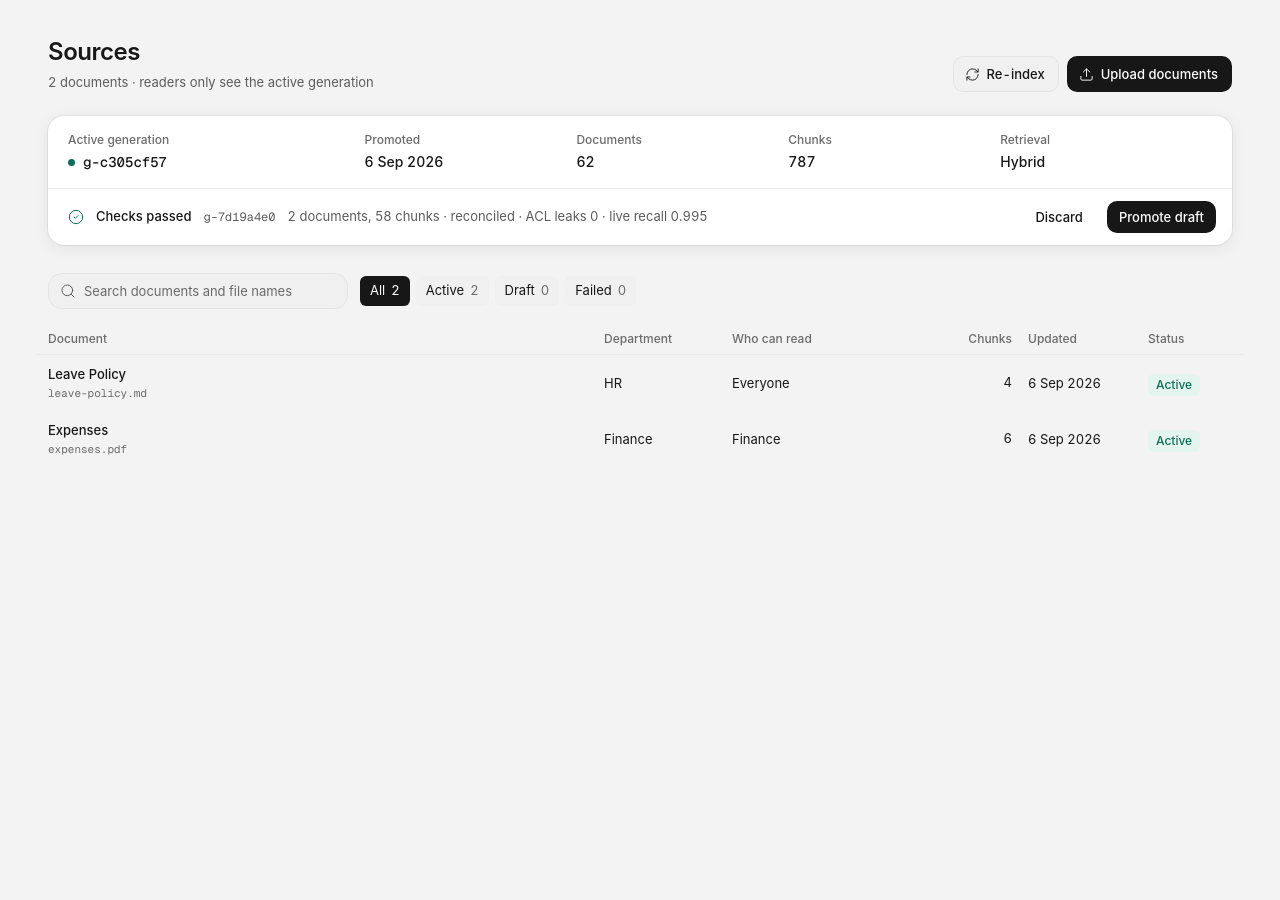
Test: SourcesWorkspace promote and discard › asks before promoting and does nothing on Cancel
Click the button "Promote draft" at (1161, 217), box [1107,201,1216,233]
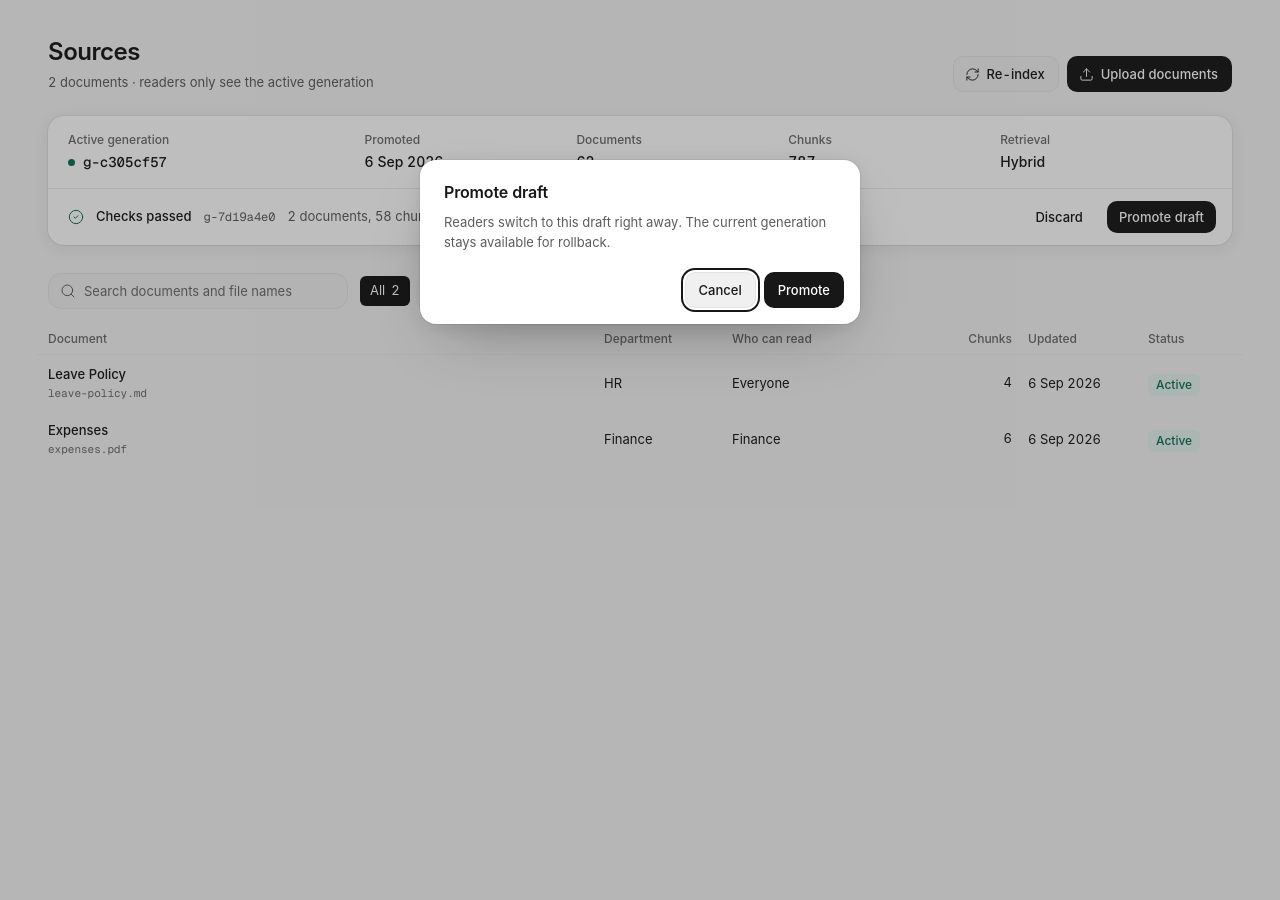
Click the button "Cancel" at (720, 290), box [684,272,756,308]
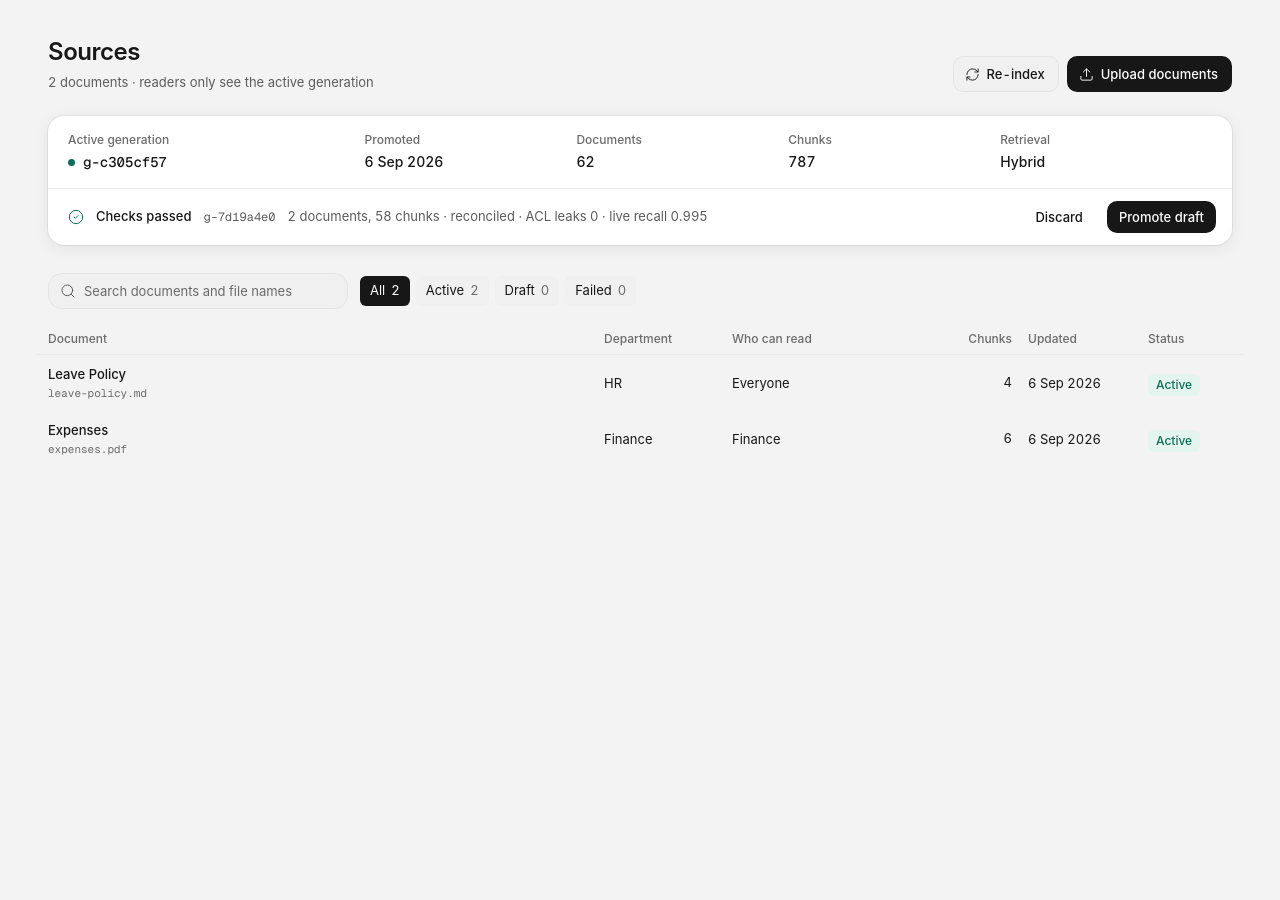
Check: the dialog is gone
